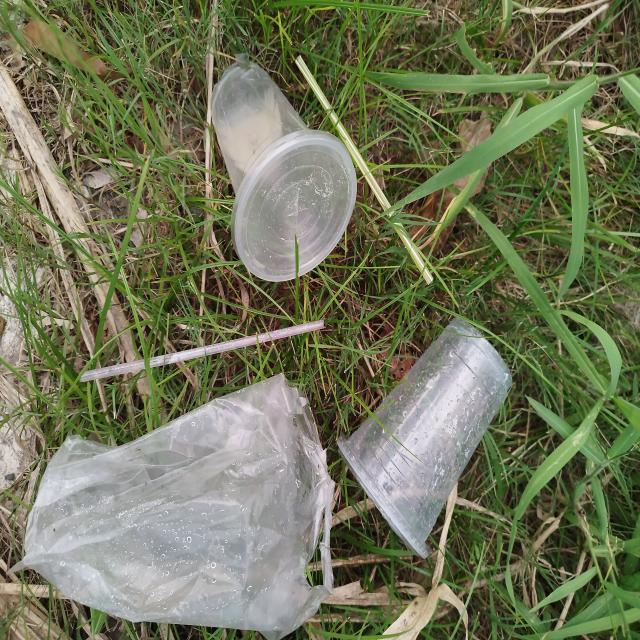bag: (21, 372, 337, 640)
drinking straw: (294, 55, 435, 287), (78, 318, 324, 383)
plastic glass: (336, 317, 513, 560), (209, 59, 357, 282)
